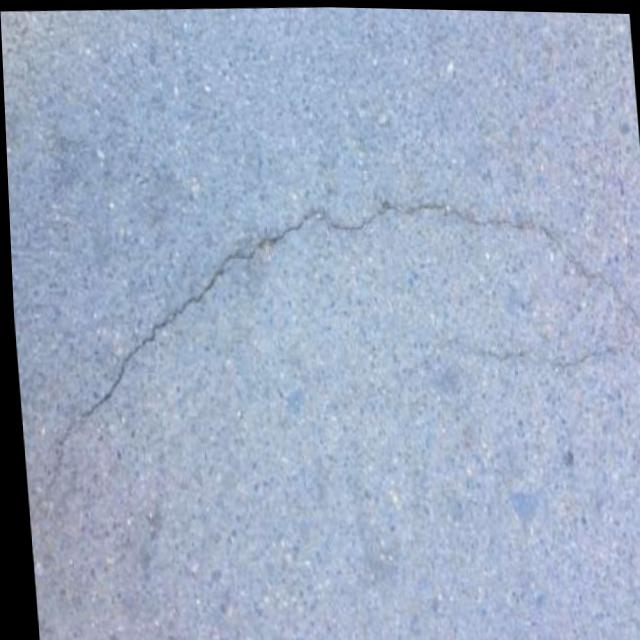Crack: (264, 178, 576, 271)
